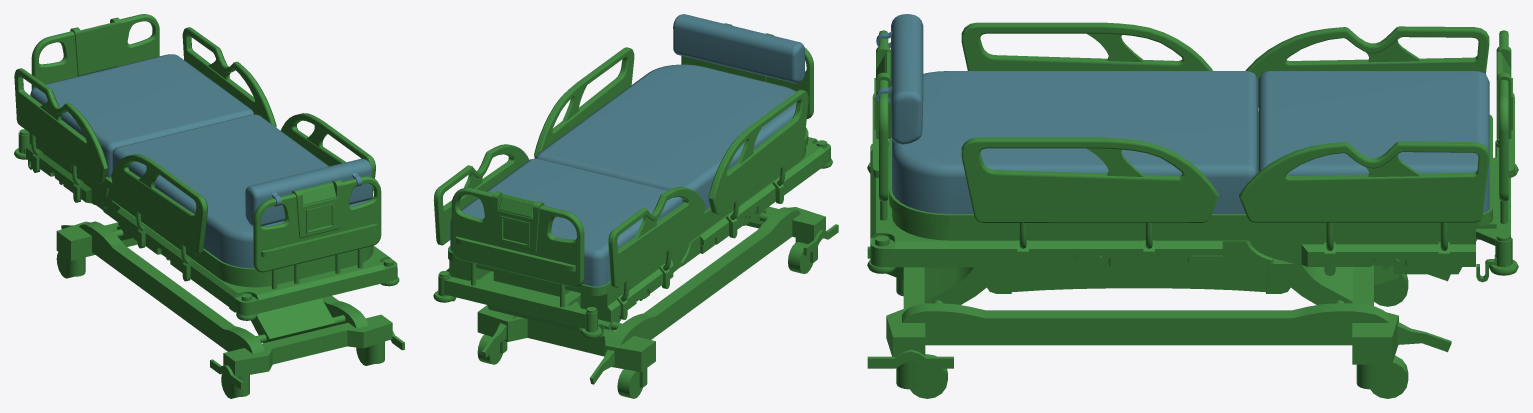
File: SM_HospitalBed_01a.FBX
3 views of the same model, side by side, from view 1: azimuth 30°, elevation 25°; view 2: azimuth 150°, elevation 25°; view 3: azimuth 270°, elevation 25° (orthographic). The views are drawn at different scales.
Parts seen in each view (by area): view 1: SM_HospitalBed_01a_LOD0; view 2: SM_HospitalBed_01a_LOD0; view 3: SM_HospitalBed_01a_LOD0.
Boxes of the visible parts, x1,y1,x2,y2 form: SM_HospitalBed_01a_LOD0: (14, 14, 404, 398); SM_HospitalBed_01a_LOD0: (433, 14, 838, 398); SM_HospitalBed_01a_LOD0: (867, 14, 1518, 398).
Size of what is drawn, in the model's own units: 111 by 128 by 255.
